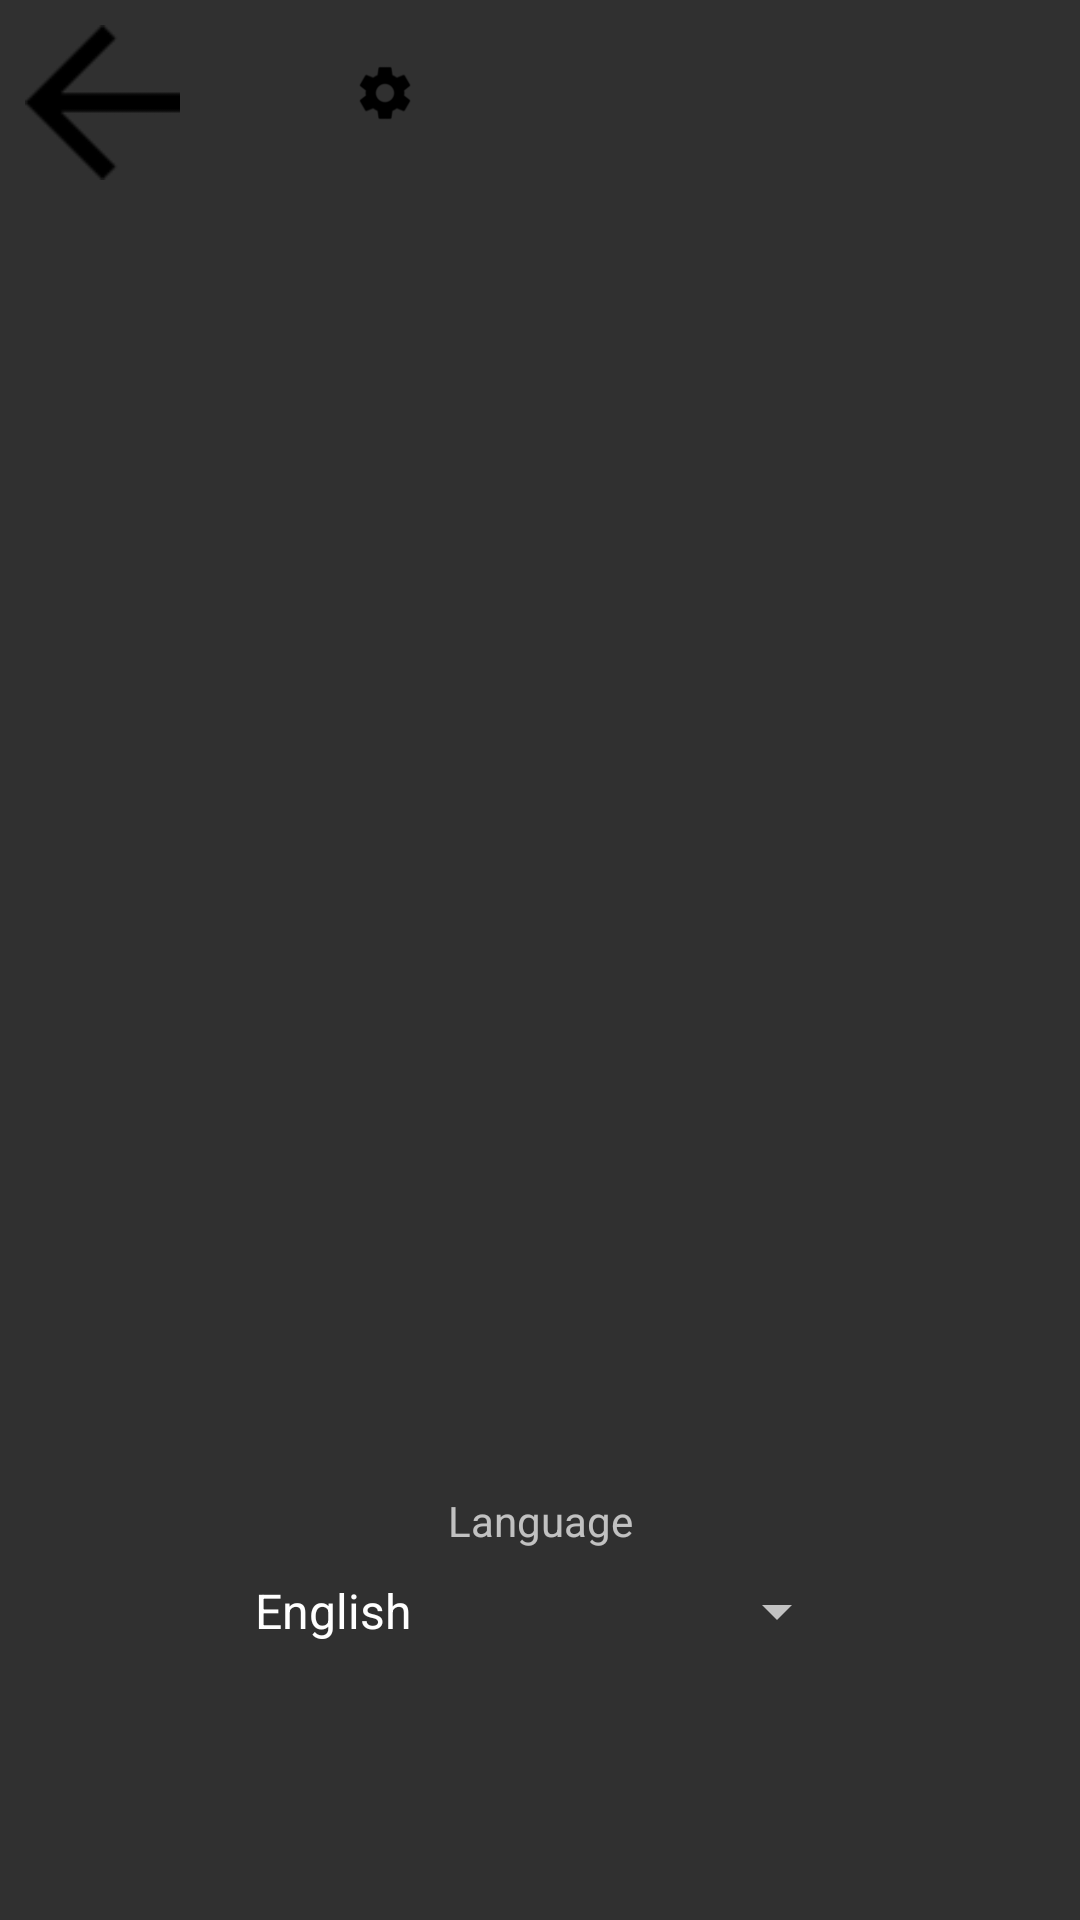

Point at icon controls on the screen. Image size 1080 x 1920, points as (x=x, y=y).
left arrow: (x=103, y=102)
settings: (x=385, y=93)
